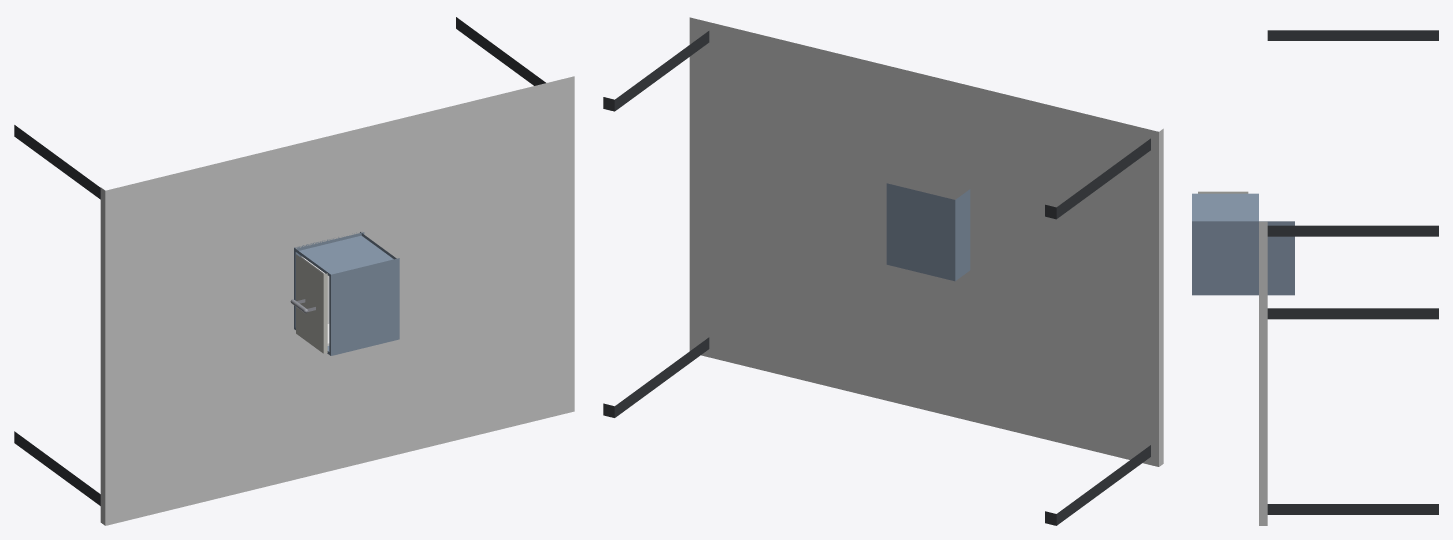
3 renders of one model, left to right at view 1: azimuth 30°, elevation 25°; view 2: azimuth 150°, elevation 25°; view 3: azimuth 270°, elevation 25°, orthographic. The views are drawn at different scales.
Parts seen in each view (by area): view 1: s0, s1, s2; view 2: s0, s1; view 3: s0, s1.
Part boxes in pixels (x1,y1,x2,y2): s0: (14, 17, 574, 525); s1: (294, 232, 399, 355); s2: (290, 254, 329, 353); s0: (603, 17, 1163, 525); s1: (886, 183, 970, 281); s0: (1259, 30, 1438, 525); s1: (1192, 193, 1294, 295).
Size of the model in its own units: 2.05 by 1.4 by 1.03.
